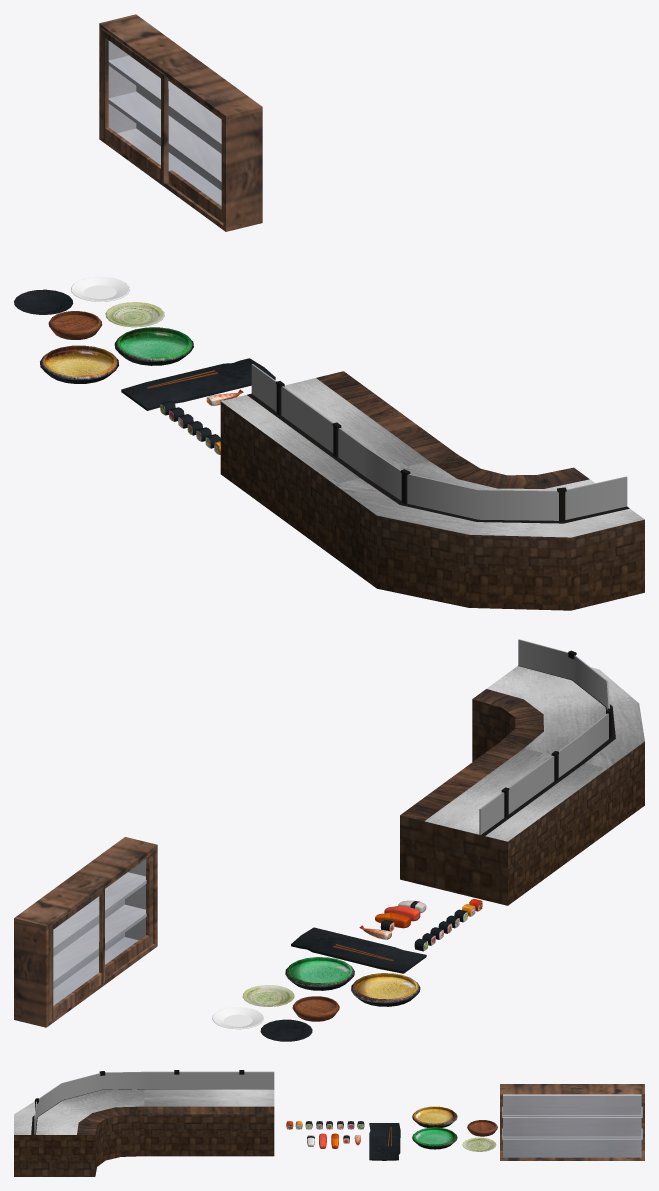
Rendered from sushiandMoreFurniture.fbx.
3 views of the same model, one above another, from view 1: azimuth 30°, elevation 25°; view 2: azimuth 150°, elevation 25°; view 3: azimuth 270°, elevation 25° (orthographic). The views are drawn at different scales.
Visible parts, largest first — view 1: showcasebase1, polySurface3, metalDetail1, glass1, pCube6, glass, pCylinder2, pCylinder1, pCylinder3, pCylinder5, pCylinder4, pCylinder6; view 2: metalDetail1, polySurface3, showcasebase1, glass1, pCube6, glass, pCylinder2, pCylinder1, pCylinder3, pCylinder6, pCylinder5, pCylinder4; view 3: polySurface3, showcasebase1, metalDetail1, glass, glass1, pCube6, pCylinder1, pCylinder2, pCylinder3, pCylinder4.
Boxes of the visible parts, left/top/right/bottom form: showcasebase1: left=334, top=454, right=644, bottom=610; polySurface3: left=99, top=14, right=262, bottom=231; metalDetail1: left=220, top=371, right=456, bottom=556; glass1: left=365, top=447, right=627, bottom=520; pCube6: left=121, top=358, right=275, bottom=410; glass: left=251, top=364, right=365, bottom=476; pCylinder2: left=40, top=345, right=118, bottom=383; pCylinder1: left=114, top=327, right=193, bottom=365; pCylinder3: left=48, top=311, right=102, bottom=339; pCylinder5: left=71, top=276, right=129, bottom=301; pCylinder4: left=105, top=302, right=164, bottom=327; pCylinder6: left=14, top=289, right=73, bottom=314; metalDetail1: left=400, top=742, right=607, bottom=905; polySurface3: left=14, top=837, right=157, bottom=1027; showcasebase1: left=472, top=650, right=644, bottom=832; glass1: left=518, top=639, right=609, bottom=761; pCube6: left=291, top=927, right=426, bottom=973; glass: left=479, top=736, right=580, bottom=834; pCylinder2: left=351, top=973, right=420, bottom=1006; pCylinder1: left=285, top=957, right=354, bottom=990; pCylinder3: left=292, top=996, right=339, bottom=1021; pCylinder6: left=260, top=1019, right=312, bottom=1041; pCylinder5: left=212, top=1007, right=263, bottom=1029; pCylinder4: left=242, top=985, right=294, bottom=1006; polySurface3: left=500, top=1084, right=644, bottom=1160; showcasebase1: left=14, top=1071, right=144, bottom=1176; metalDetail1: left=144, top=1070, right=274, bottom=1156; glass: left=144, top=1071, right=274, bottom=1088; glass1: left=34, top=1071, right=144, bottom=1134; pCube6: left=369, top=1123, right=400, bottom=1160; pCylinder1: left=412, top=1127, right=457, bottom=1149; pCylinder2: left=412, top=1106, right=457, bottom=1127; pCylinder3: left=467, top=1120, right=497, bottom=1136; pCylinder4: left=462, top=1137, right=496, bottom=1151.
Bounding box in the file's own units: 112 × 64.75 × 388.
